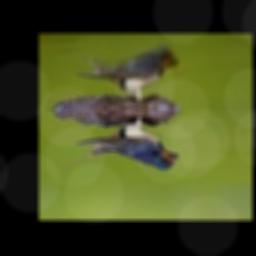Swallow: (60, 115, 178, 170)
